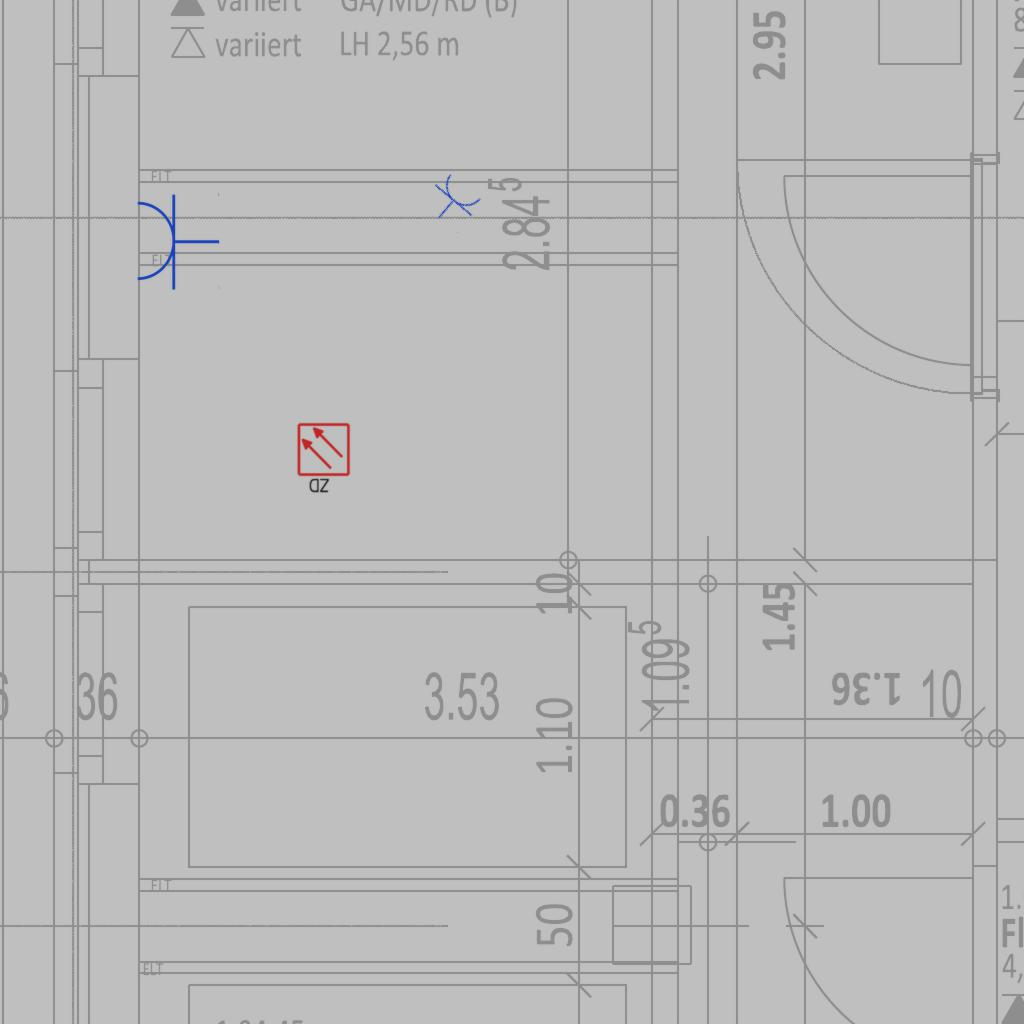Schukosteckdose_einfach: (133, 191, 220, 291), (420, 168, 486, 235)
ZD_Melder_in_Zwischendecke_mit_Revisionsoeffnung_mind_40_x_40_cm: (296, 422, 353, 496)
